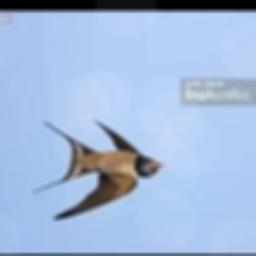Swallow: (31, 120, 163, 221)
